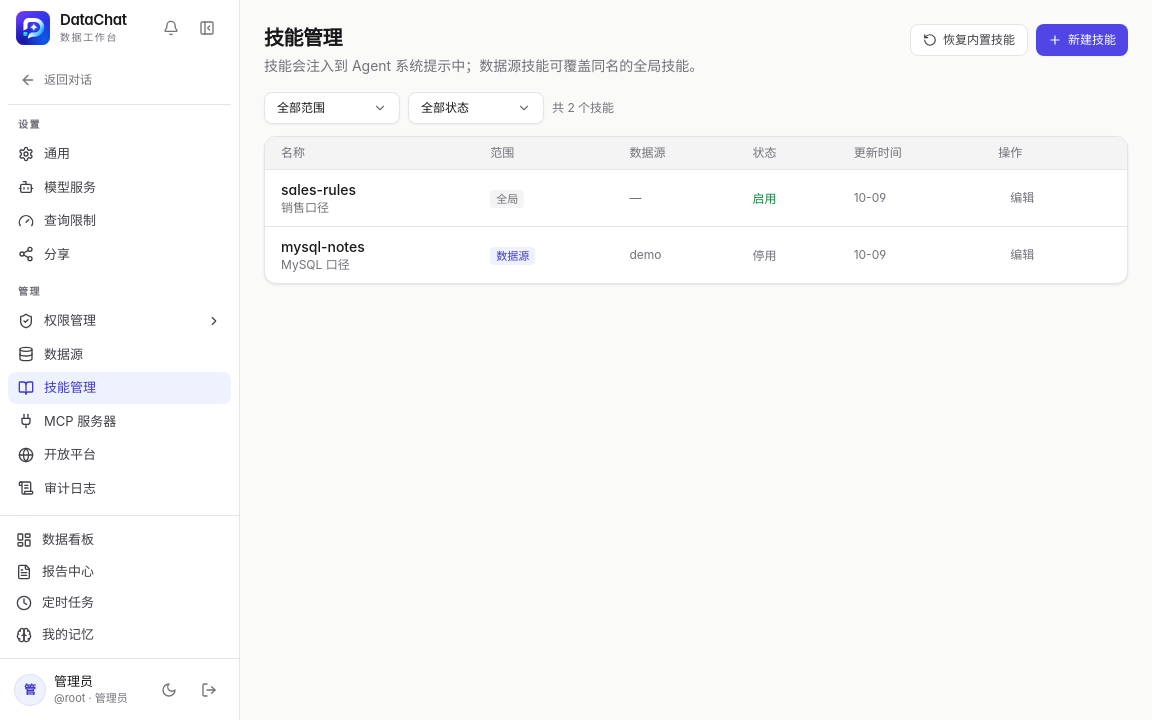
it: SkillsPage › renders skills with datasource names and filters by scope
The width and height of the screenshot is (1152, 720).
Expected: the text "sales-rules" is shown, [281,181,356,198]
Expected: the text "mysql-notes" is shown, [281,238,365,255]
Click the dropdown named "按范围筛选". click: click(332, 108)
box: [264,92,400,124]
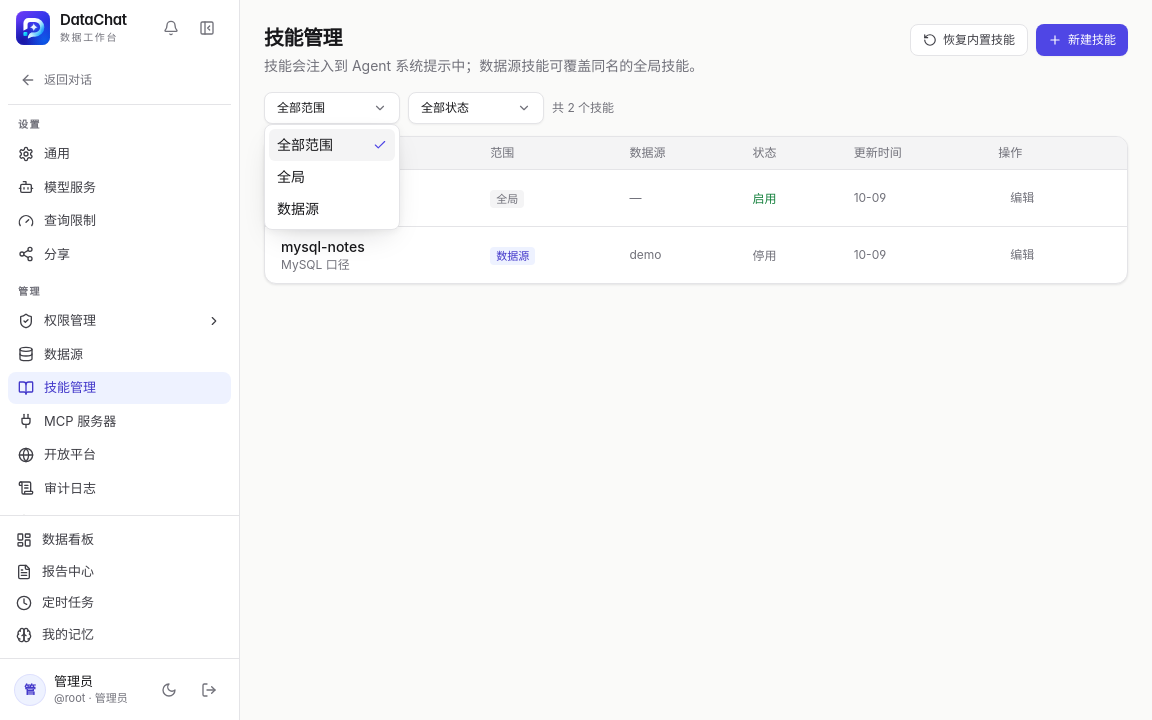
Click the option "数据源". click: click(298, 208)
box: [277,200,319,217]
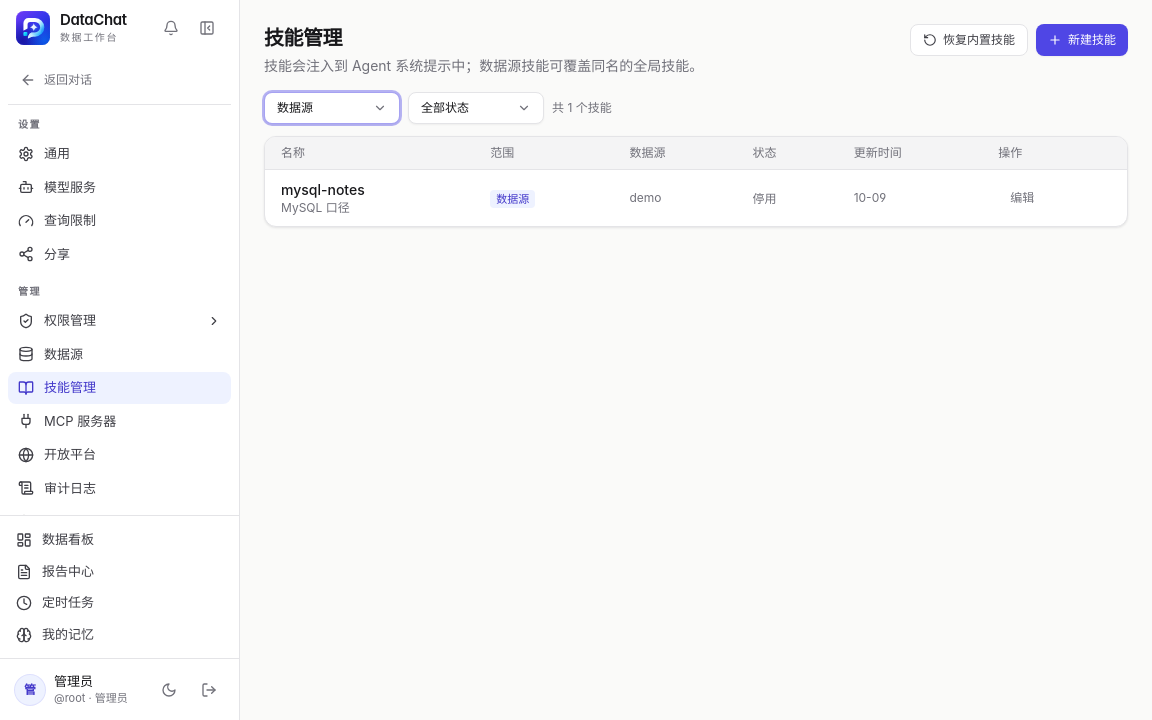
Expected: the text "mysql-notes" is shown, [281,181,365,198]
Expected: the text "sales-rules" is gone
Expected: the text "共 1 个技能" is shown, [552,100,612,116]
Click the dropdown named "按范围筛选". click: click(332, 108)
box: [264,92,400,124]
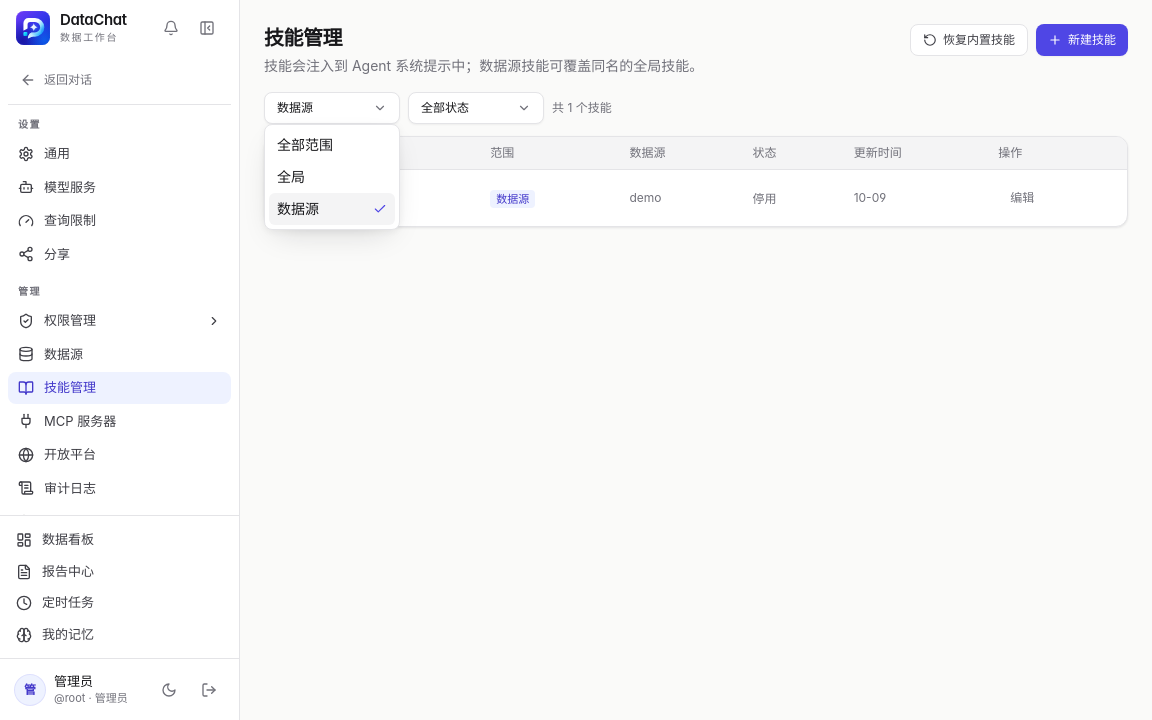
Click the option "全局". click: click(291, 176)
box: [277,168,305,185]
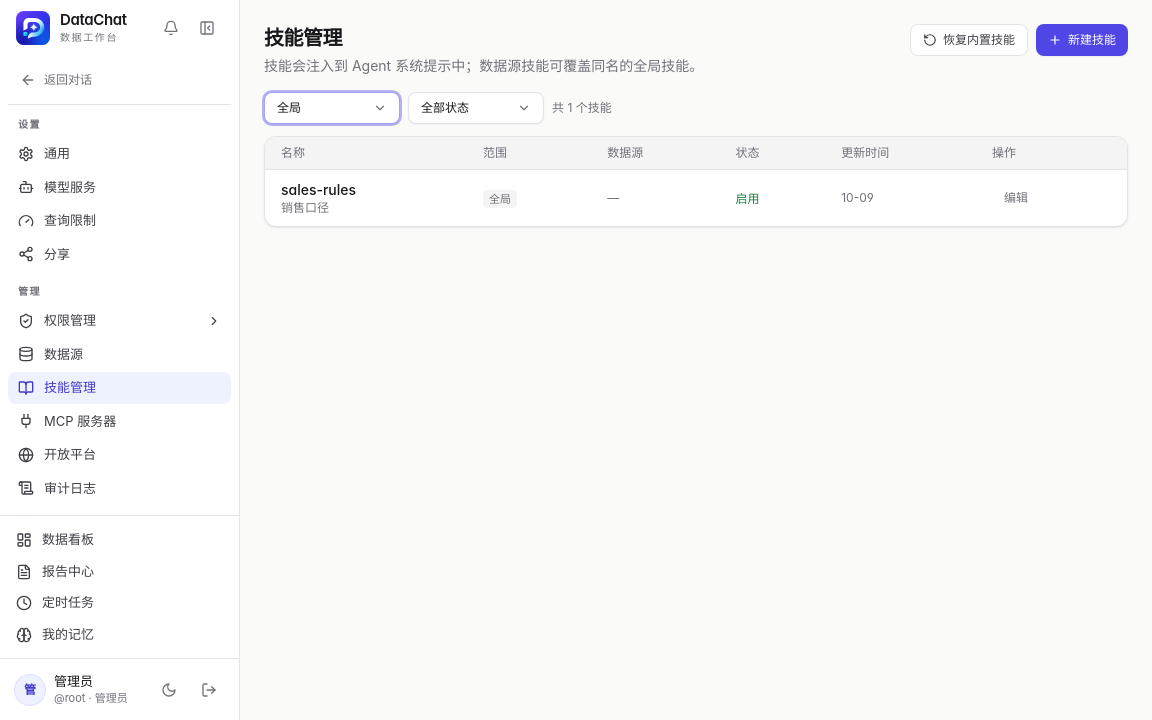
Expected: the text "sales-rules" is shown, [281,181,356,198]
Expected: the text "mysql-notes" is gone
